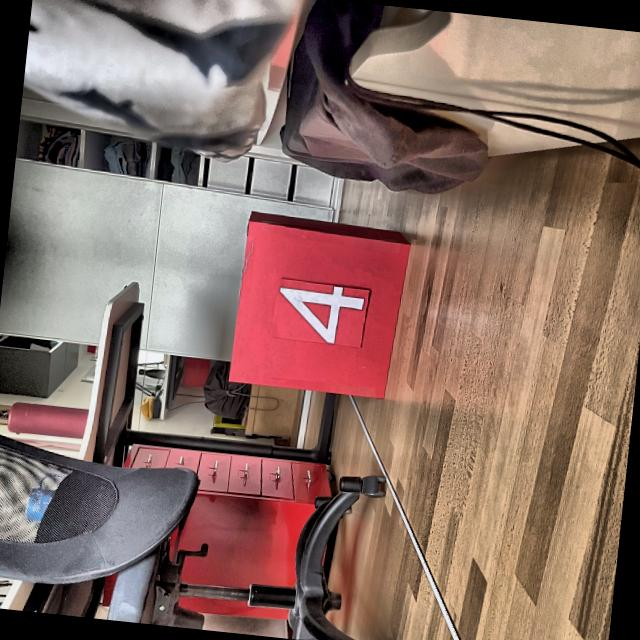four: (272, 279, 366, 349)
red box: (226, 208, 417, 402)
